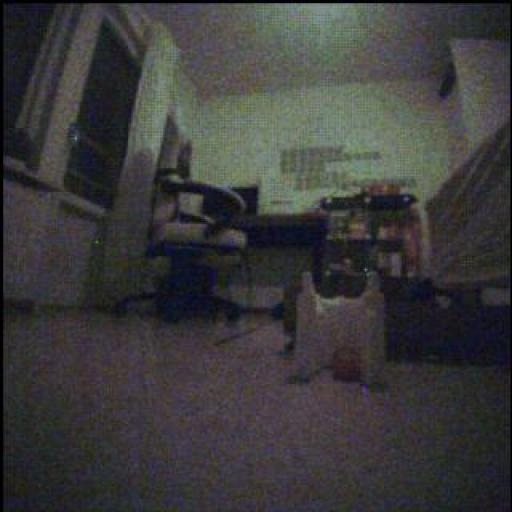basket: (332, 344, 362, 384)
